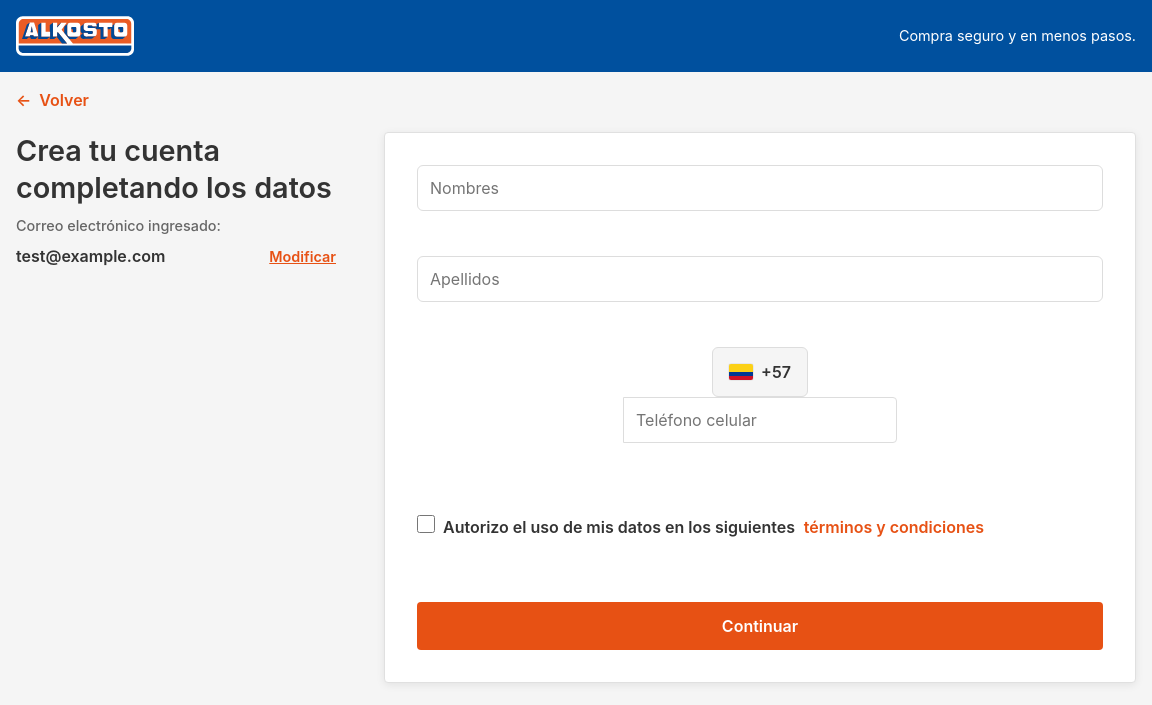
Scenario: RF01 - REGISTRAR USUARIO - Pruebas Unitarias Completas › 3. Validaciones - Pruebas de Caja Negra › 3.2 Validación de campo "Nombres" vacío
Click the button "Continuar". click: [760, 626]
box: top-left (417, 602), bottom-right (1103, 650)
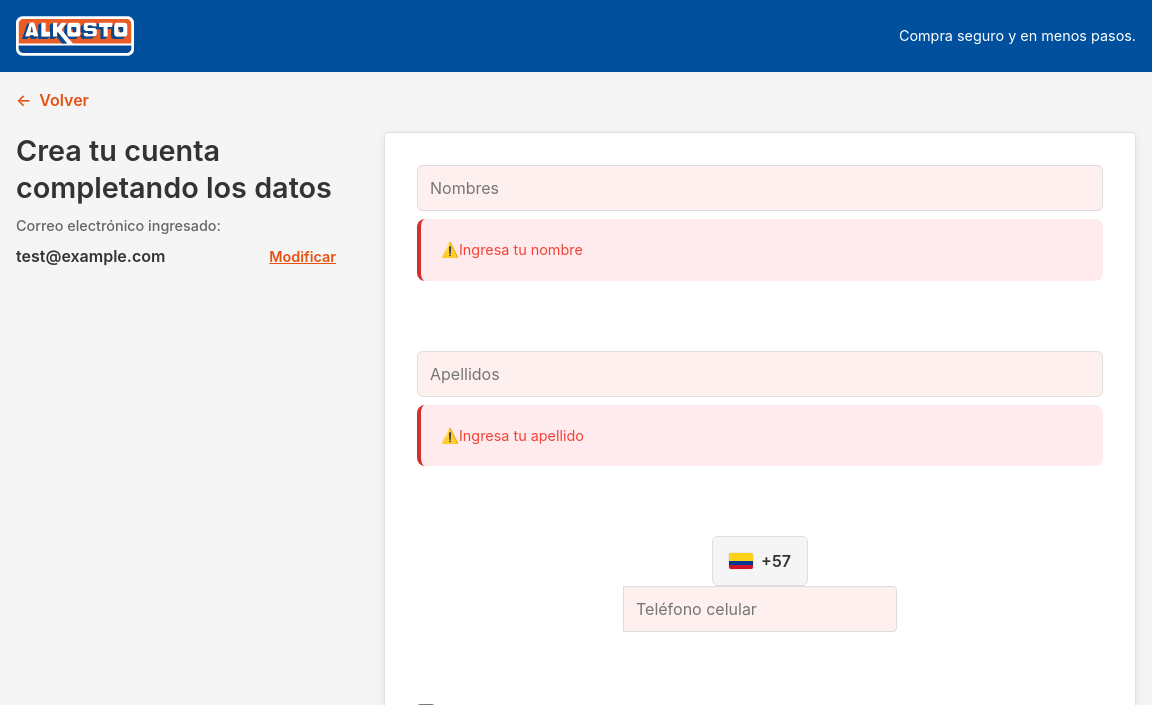
Expected: the text "Ingresa tu nombre" is shown, top-left (417, 219), bottom-right (1103, 281)
